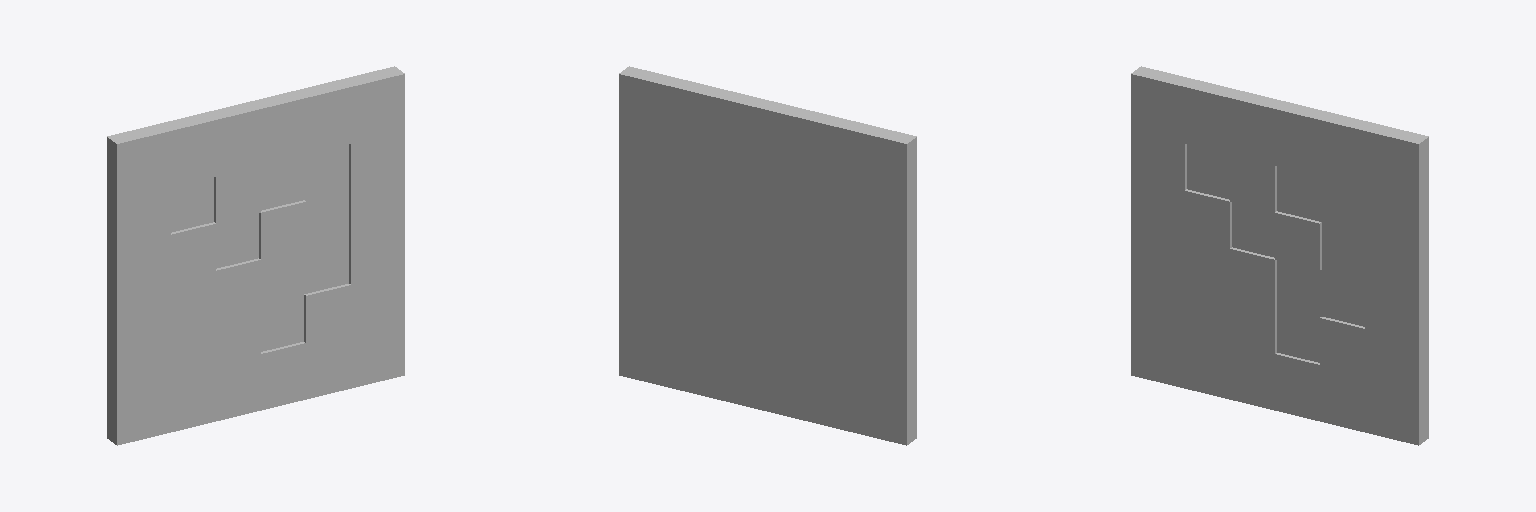
The model's file is aruco.obj.
The picture shows the model from 3 angles: view 1: azimuth 30°, elevation 25°; view 2: azimuth 150°, elevation 25°; view 3: azimuth 330°, elevation 25°; orthographic projection.
Parts seen in each view (by area): view 1: obj1; view 2: obj1; view 3: obj1.
Boxes of the visible parts, x1,y1,x2,y2 form: obj1: [107, 66, 404, 445]; obj1: [619, 66, 916, 445]; obj1: [1131, 66, 1428, 445].
Size of the model in its own units: 160 by 160 by 10.